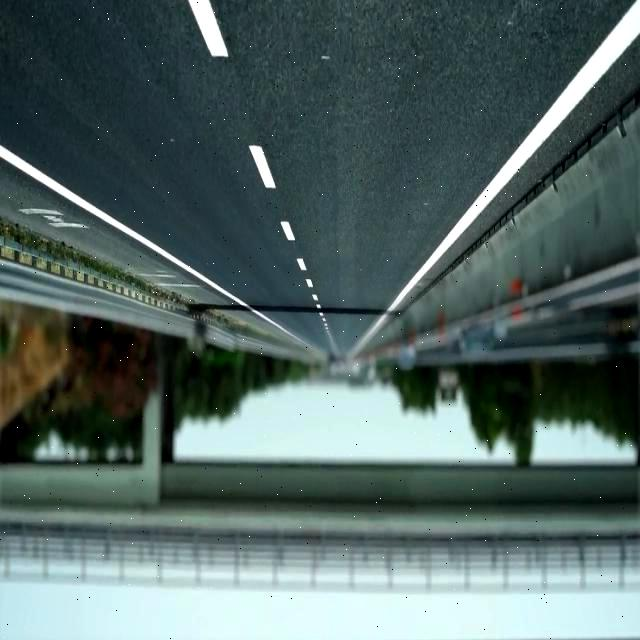lane: (351, 1, 640, 356), (0, 146, 304, 342), (188, 1, 228, 58), (249, 146, 276, 189), (281, 222, 295, 241)
road: (1, 1, 635, 355), (397, 39, 640, 309)
